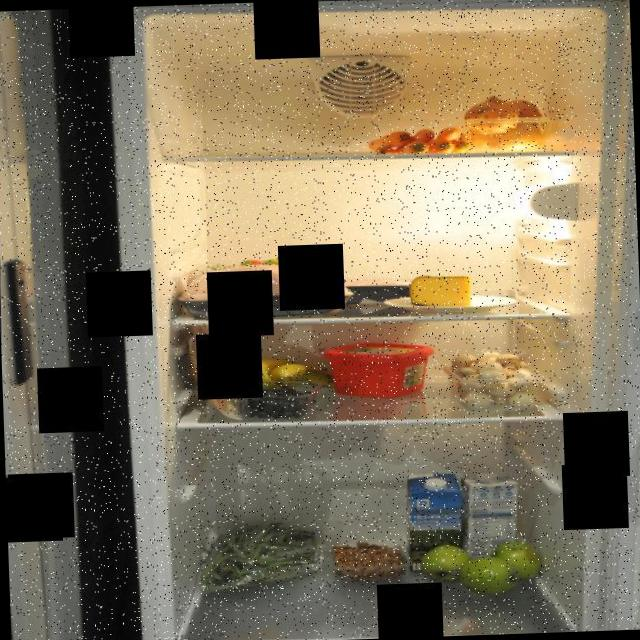Carne cerdo: (186, 324, 228, 419)
Carne pollo: (179, 258, 358, 323)
Cebolla: (457, 92, 549, 154)
Champiñones: (436, 348, 544, 414)
Gambas/Langostinos: (332, 534, 406, 580)
Leche: (400, 471, 468, 574), (464, 470, 525, 574)
Mantequilla: (320, 335, 436, 401)
Manzana: (416, 537, 544, 598)
Plátano: (220, 350, 342, 400)
Queso: (406, 270, 476, 312)
Zanahoria: (364, 120, 472, 158)
